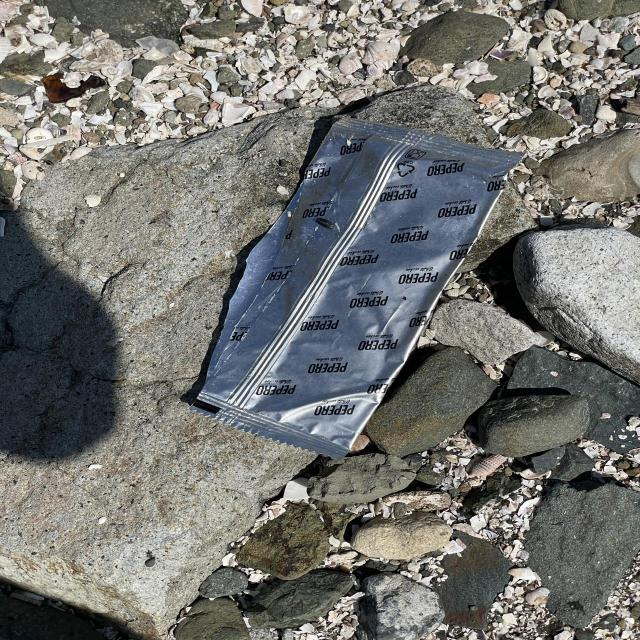plastic_waste: (190, 117, 529, 463)
